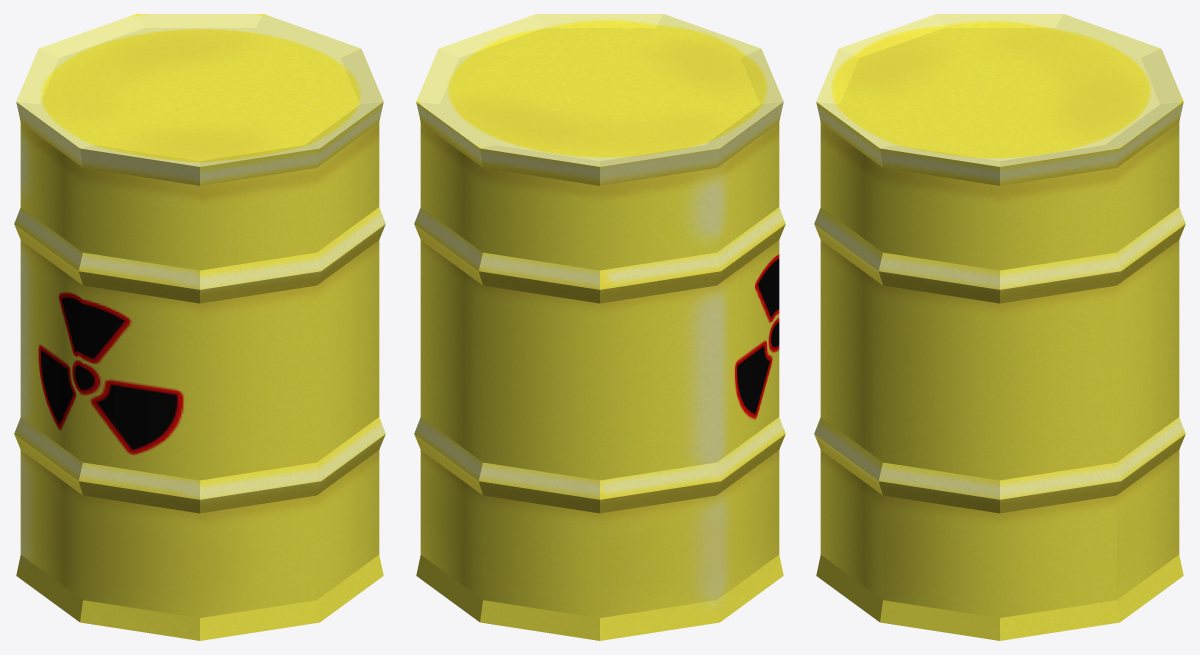
The model's file is Barrel.FBX.
3 renders of one model, left to right at view 1: azimuth 30°, elevation 25°; view 2: azimuth 150°, elevation 25°; view 3: azimuth 270°, elevation 25°, orthographic.
Visible parts, largest first — view 1: Barrel; view 2: Barrel; view 3: Barrel.
Part boxes in pixels (left/top/right/bottom): Barrel: left=14, top=14, right=385, bottom=640; Barrel: left=414, top=14, right=785, bottom=640; Barrel: left=814, top=14, right=1185, bottom=640.
Size of the model in its own units: 60.33 by 86.21 by 61.26.
